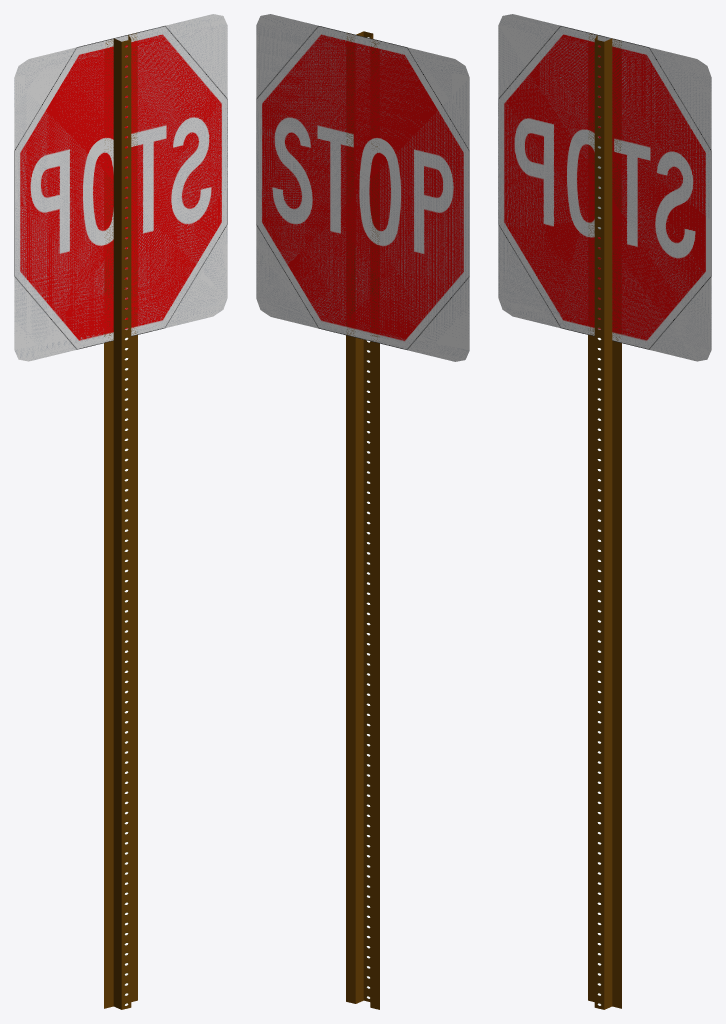
File: stop.dae
3 renders of one model, left to right at view 1: azimuth 30°, elevation 25°; view 2: azimuth 150°, elevation 25°; view 3: azimuth 330°, elevation 25°, orthographic.
Parts seen in each view (by area): view 1: group_1, Component_11 (×2), Component_10, Component_12; view 2: group_1, Component_11 (×2), Component_12, Component_10; view 3: group_1, Component_11 (×2), Component_10, Component_12.
Part boxes in pixels (left/top/right/bottom): group_1: left=14, top=14, right=227, bottom=361; Component_11 (×2): left=104, top=335, right=137, bottom=1008; Component_10: left=121, top=39, right=131, bottom=1009; Component_12: left=113, top=38, right=121, bottom=1009; group_1: left=256, top=14, right=469, bottom=361; Component_11 (×2): left=346, top=335, right=379, bottom=1009; Component_12: left=355, top=31, right=363, bottom=1003; Component_10: left=363, top=31, right=372, bottom=1001; group_1: left=498, top=14, right=711, bottom=361; Component_11 (×2): left=588, top=335, right=621, bottom=1008; Component_10: left=594, top=39, right=604, bottom=1009; Component_12: left=604, top=38, right=612, bottom=1009.
Size of the model in its own units: 22.14 by 1 by 96.
Materials: 4 (4 with a texture image).
